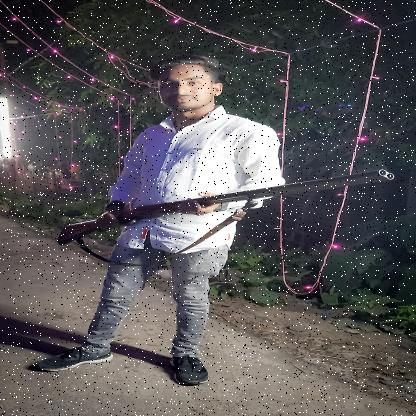rifle: (55, 168, 396, 246)
